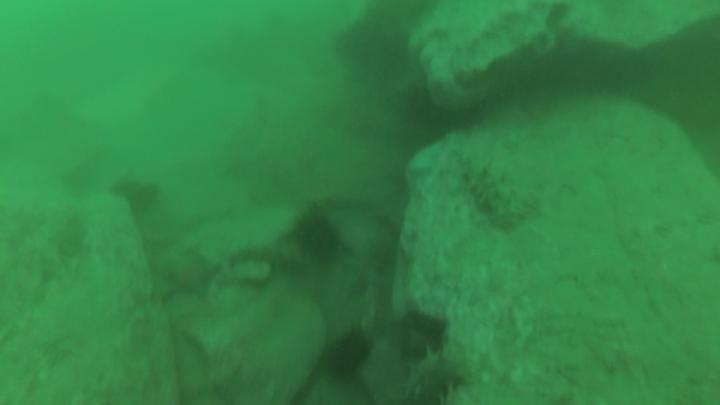echinus: (286, 204, 345, 264), (318, 325, 380, 380)
holothurian: (460, 155, 523, 230), (398, 343, 473, 405)
starfish: (155, 246, 225, 305)
